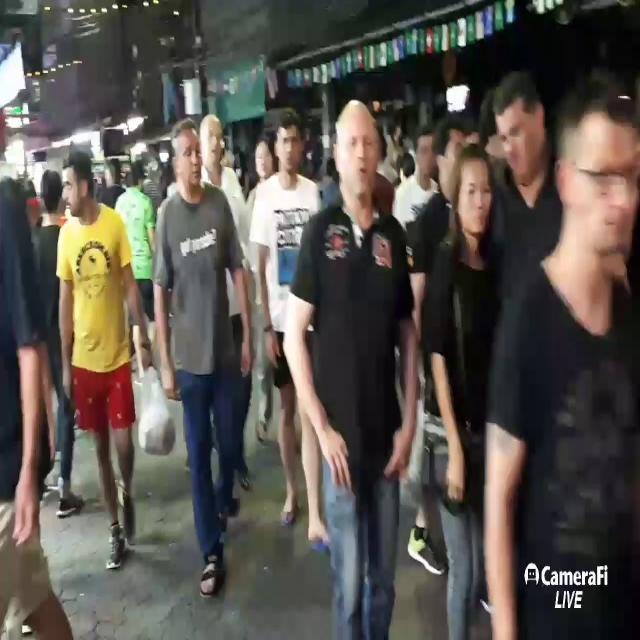body: (280, 88, 428, 639), (146, 111, 256, 605), (219, 84, 517, 246), (421, 138, 510, 640), (53, 143, 155, 578), (0, 98, 74, 640), (248, 106, 334, 554), (407, 110, 468, 579), (384, 434, 506, 620), (198, 111, 255, 497), (482, 68, 562, 310), (30, 168, 84, 519), (483, 86, 563, 278), (22, 140, 174, 241), (243, 130, 279, 450), (113, 162, 155, 377)
